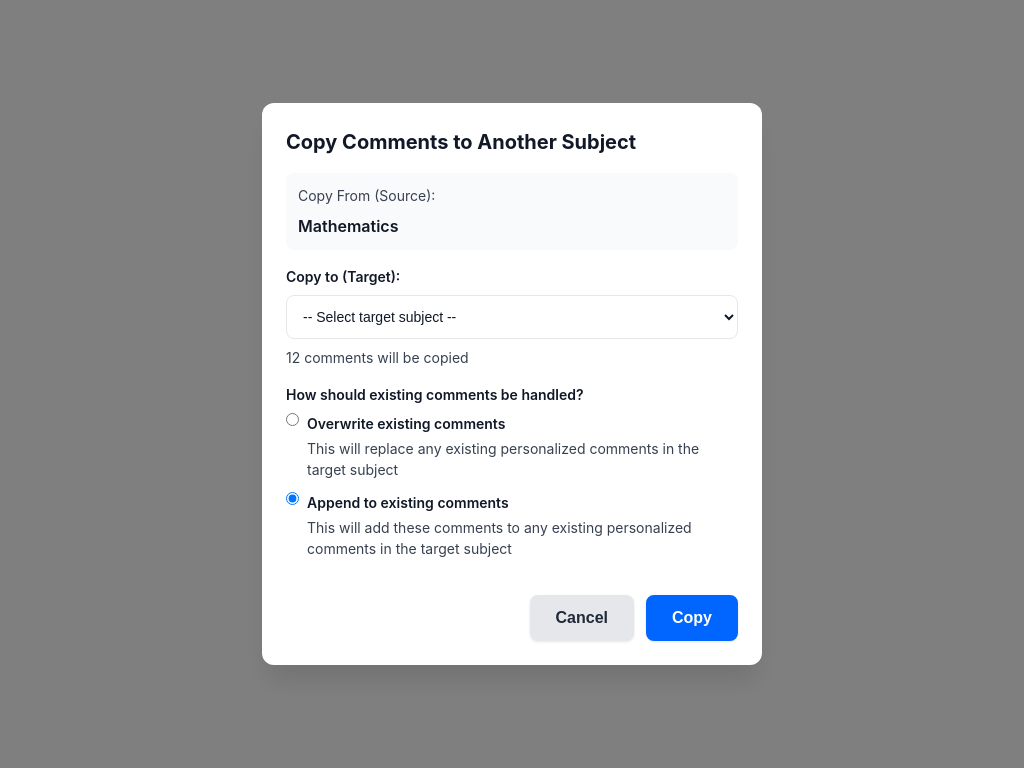
CopyCommentsModal - Duplicate Handling & Message Display (US-CP-007) › AC-7.2: Overwrite Mode › should display "replaced all comments" message in overwrite mode
The width and height of the screenshot is (1024, 768).
Select "Physics" in the dropdown labelled "Copy to (Target):" at coordinates (512, 317), box [286,295,738,339]
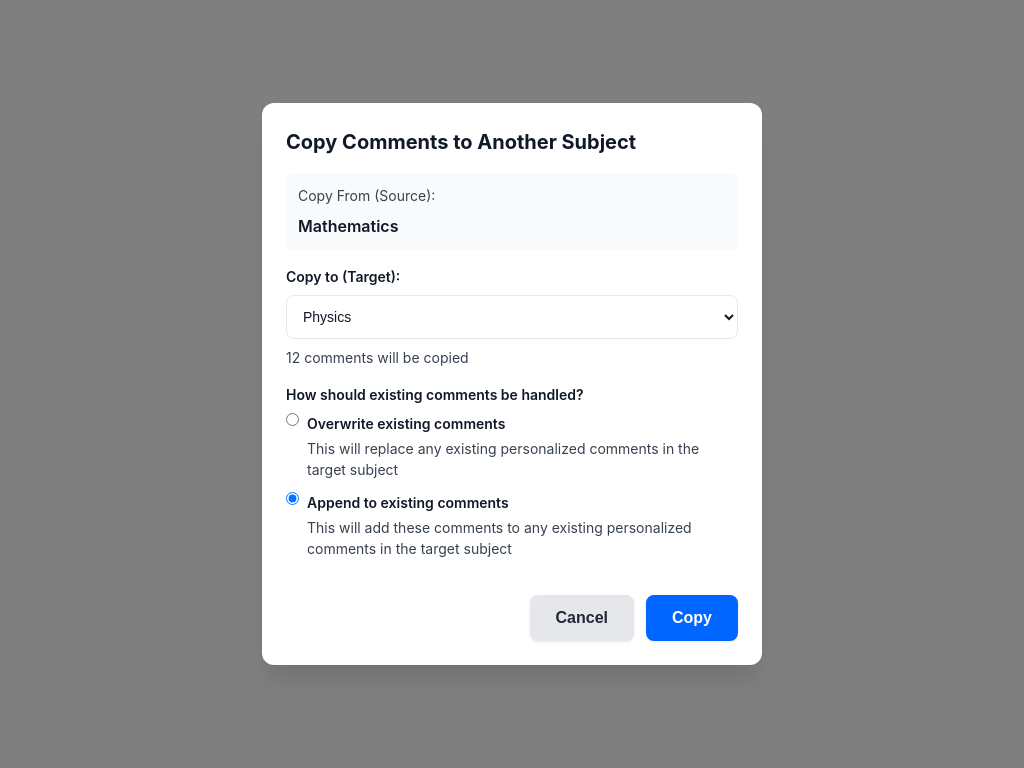
Click the radio button labelled "Overwrite existing comments" at coordinates (292, 420), box [286,413,299,426]
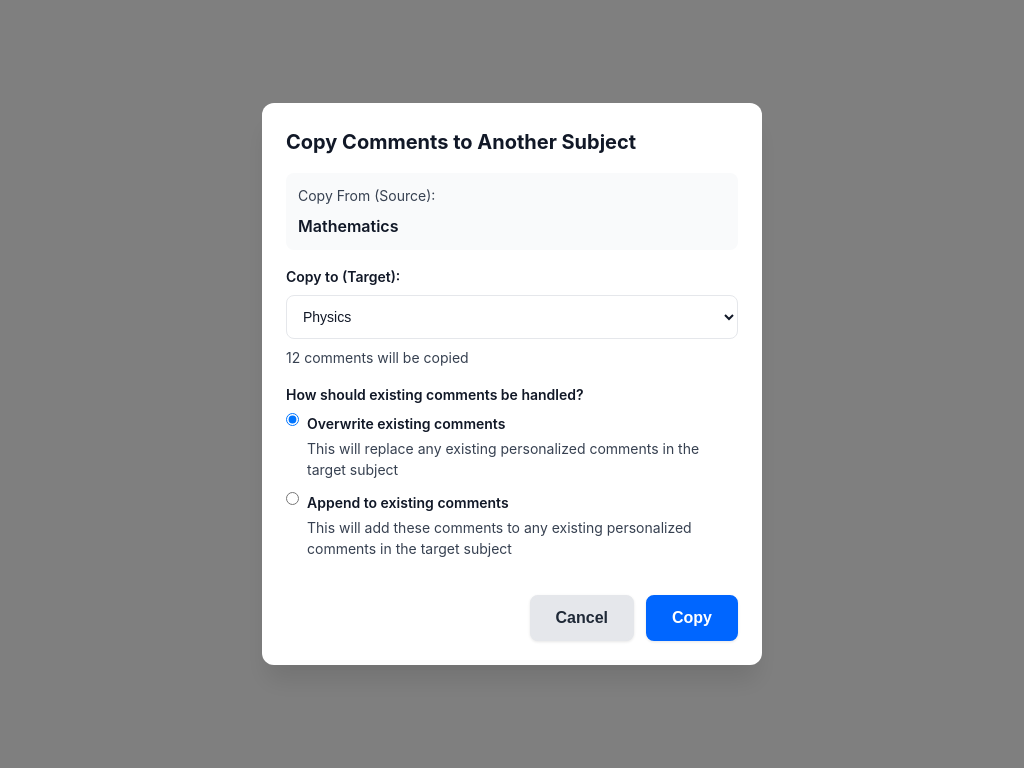
Click the button "Copy" at coordinates (692, 618), box [646,595,738,641]
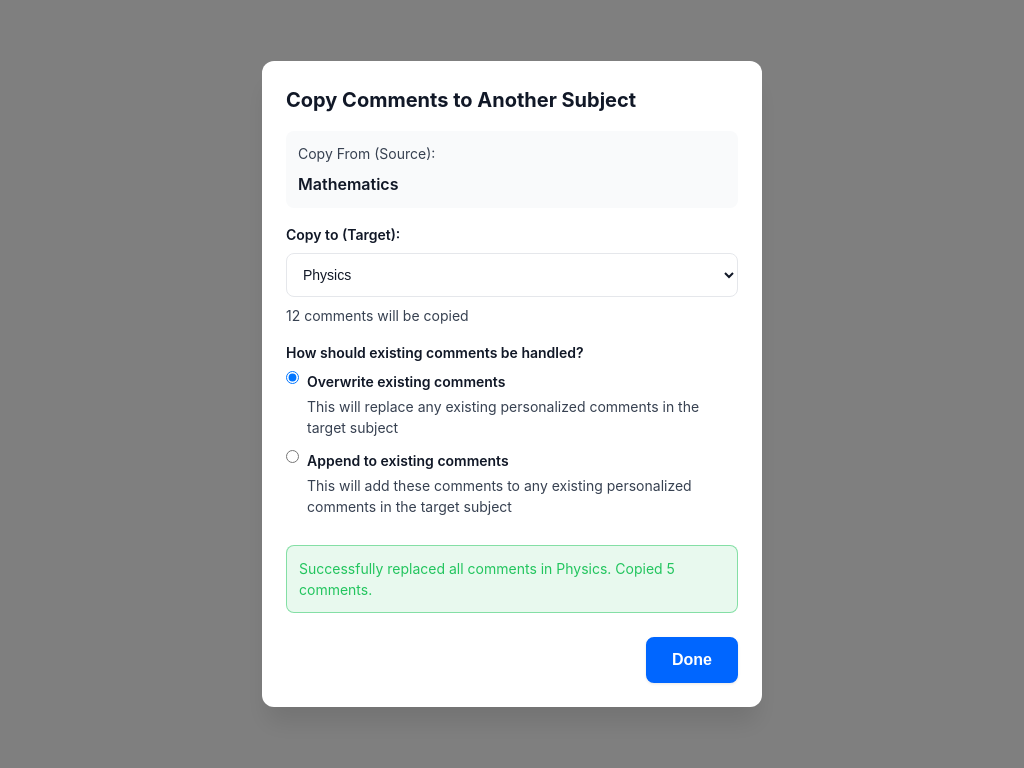
Expected: the text "Copied 5 comments" is shown, [299,560,675,598]
